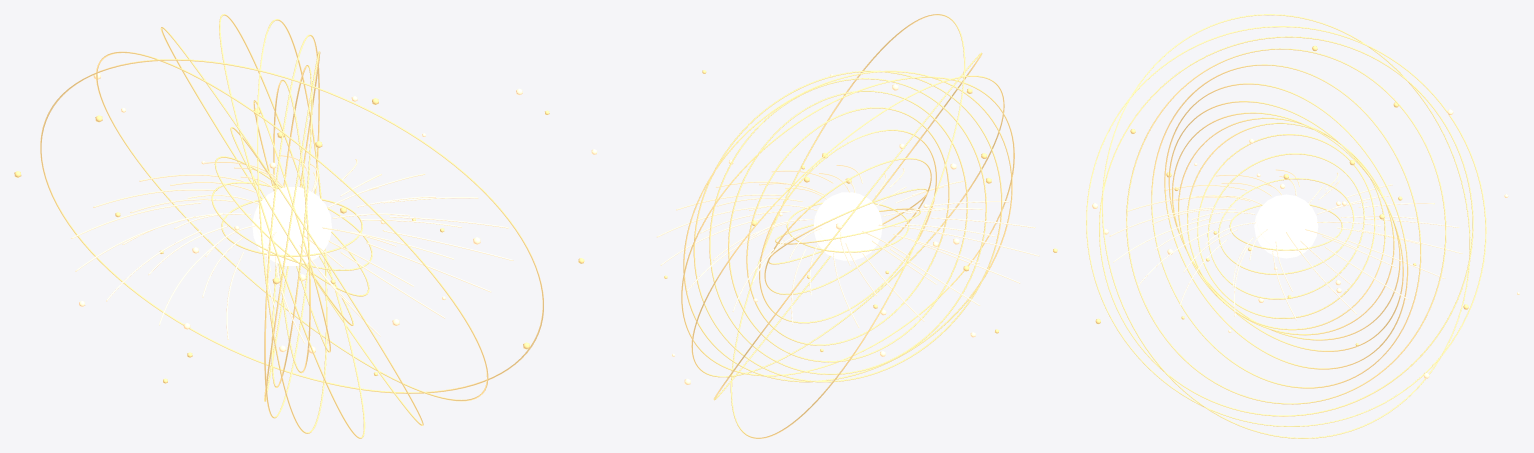
The picture shows the model from 3 angles, left to right: view 1: azimuth 30°, elevation 25°; view 2: azimuth 150°, elevation 25°; view 3: azimuth 270°, elevation 25°; orthographic projection. The views are drawn at different scales.
Parts seen in each view (by area): view 1: WhiteLight_Grace_Rings, WhiteLight_Lotus_Mandala, WhiteLight_Unity_Core, WhiteLight_Suspended_Pearls; view 2: WhiteLight_Grace_Rings, WhiteLight_Lotus_Mandala, WhiteLight_Unity_Core, WhiteLight_Suspended_Pearls; view 3: WhiteLight_Grace_Rings, WhiteLight_Lotus_Mandala, WhiteLight_Unity_Core, WhiteLight_Suspended_Pearls.
Boxes of the visible parts, x1,y1,x2,y2 form: WhiteLight_Grace_Rings: (40, 14, 543, 438); WhiteLight_Lotus_Mandala: (71, 155, 513, 343); WhiteLight_Unity_Core: (252, 187, 331, 265); WhiteLight_Suspended_Pearls: (14, 73, 549, 383); WhiteLight_Grace_Rings: (681, 14, 1014, 438); WhiteLight_Lotus_Mandala: (657, 164, 1039, 327); WhiteLight_Unity_Core: (813, 192, 882, 260); WhiteLight_Suspended_Pearls: (578, 70, 1057, 385); WhiteLight_Grace_Rings: (1086, 14, 1486, 438); WhiteLight_Lotus_Mandala: (1109, 169, 1462, 320); WhiteLight_Unity_Core: (1254, 194, 1318, 258); WhiteLight_Suspended_Pearls: (1092, 45, 1519, 378).
Size of the model in its own units: 8.86 by 7.61 by 8.83.
